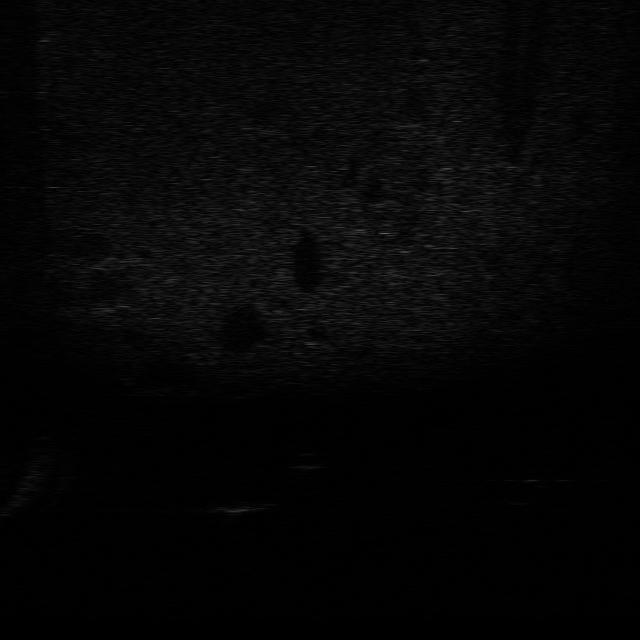ball: (282, 446, 328, 472)
square cage: (202, 492, 278, 523)
tyre: (498, 475, 554, 508)
